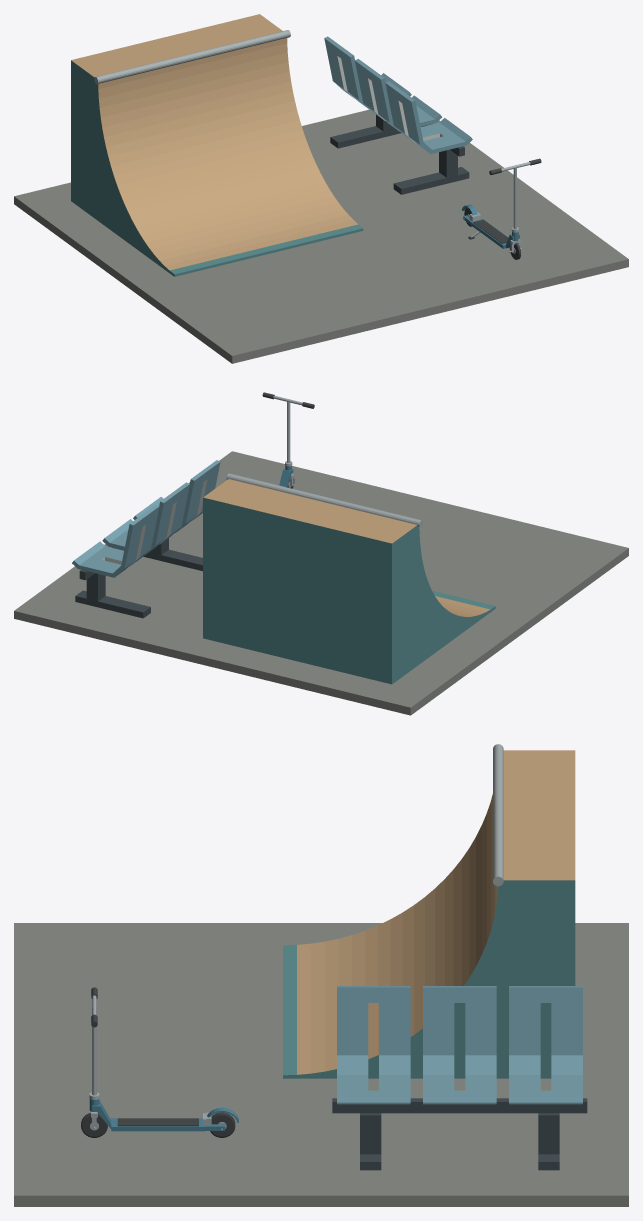
The picture shows the model from 3 angles, top to bottom: view 1: azimuth 30°, elevation 25°; view 2: azimuth 150°, elevation 25°; view 3: azimuth 270°, elevation 25°; orthographic projection. The views are drawn at different scales.
Visible parts, largest first — view 1: SceneOnlySkatingPreparationFloor, WholeConcaveBankSideCheeksRearAndTopPlatform, LeftContinuousSlottedSeatBack, CentreContinuousSlottedSeatBack, WholeTransverseTopCoping, RightContinuousSlottedSeatBack, LeftIntegralLongFootPedestal, RightIntegralLongFootPedestal; view 2: SceneOnlySkatingPreparationFloor, WholeConcaveBankSideCheeksRearAndTopPlatform, RightContinuousSlottedSeatBack, CentreContinuousSlottedSeatBack, RightIntegralLongFootPedestal, LeftContinuousSlottedSeatBack, WholeTransverseTopCoping, LeftIntegralLongFootPedestal; view 3: SceneOnlySkatingPreparationFloor, WholeConcaveBankSideCheeksRearAndTopPlatform, CentreContinuousSlottedSeatBack, LeftContinuousSlottedSeatBack, RightContinuousSlottedSeatBack, WholeTransverseSeatBeam, WholeTransverseTopCoping, RightIntegralLongFootPedestal, LeftIntegralLongFootPedestal, WholeNarrowDeckAndRearForkProngs, WholeGripSurface.
Part boxes in pixels (<box>): SceneOnlySkatingPreparationFloor: <box>14,109,628,363</box>; WholeConcaveBankSideCheeksRearAndTopPlatform: <box>71,14,363,276</box>; LeftContinuousSlottedSeatBack: <box>385,81,472,154</box>; CentreContinuousSlottedSeatBack: <box>355,59,442,131</box>; WholeTransverseTopCoping: <box>94,30,290,84</box>; RightContinuousSlottedSeatBack: <box>324,36,411,109</box>; LeftIntegralLongFootPedestal: <box>393,149,469,194</box>; RightIntegralLongFootPedestal: <box>330,114,401,148</box>; SceneOnlySkatingPreparationFloor: <box>14,451,628,715</box>; WholeConcaveBankSideCheeksRearAndTopPlatform: <box>203,479,495,684</box>; RightContinuousSlottedSeatBack: <box>72,505,159,577</box>; CentreContinuousSlottedSeatBack: <box>102,482,189,555</box>; RightIntegralLongFootPedestal: <box>75,573,150,618</box>; LeftContinuousSlottedSeatBack: <box>133,460,220,532</box>; WholeTransverseTopCoping: <box>226,473,422,527</box>; LeftIntegralLongFootPedestal: <box>143,538,202,571</box>; SceneOnlySkatingPreparationFloor: <box>14,923,628,1206</box>; WholeConcaveBankSideCheeksRearAndTopPlatform: <box>283,750,575,1078</box>; CentreContinuousSlottedSeatBack: <box>423,986,496,1104</box>; LeftContinuousSlottedSeatBack: <box>337,986,410,1104</box>; RightContinuousSlottedSeatBack: <box>509,986,582,1104</box>; WholeTransverseSeatBeam: <box>332,1098,587,1113</box>; WholeTransverseTopCoping: <box>493,744,503,886</box>; RightIntegralLongFootPedestal: <box>538,1113,559,1170</box>; LeftIntegralLongFootPedestal: <box>360,1113,381,1170</box>; WholeNarrowDeckAndRearForkProngs: <box>111,1118,224,1131</box>; WholeGripSurface: <box>117,1118,198,1126</box>.
Bounding box in the file's own units: 4.2 × 1.54 × 4.
